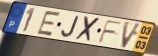1: (21, 7, 37, 34)
E: (35, 10, 63, 38)
F: (96, 19, 124, 44)
J: (60, 15, 80, 39)
V: (119, 20, 143, 50)
X: (73, 15, 102, 44)
